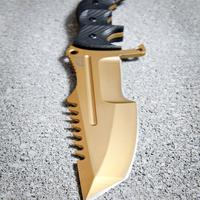knife: (62, 1, 139, 197)
